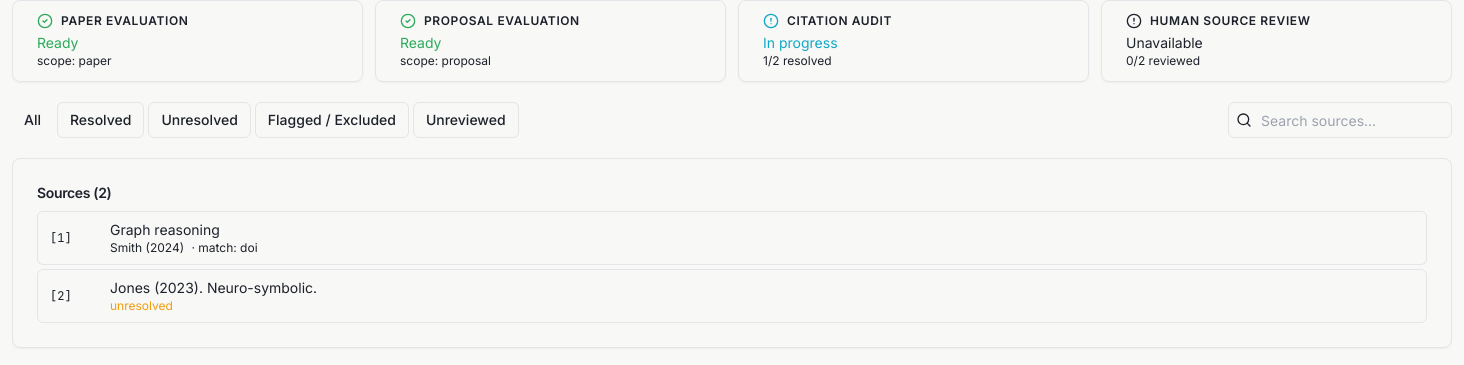
Test: TrustSourcesWorkspace › case 3: source filters work (unresolved shows 1)
Expected: the text "Graph reasoning" is shown, [110,221,220,238]
Click the button "Unresolved". click: x=200, y=120
box: [148,102,251,138]
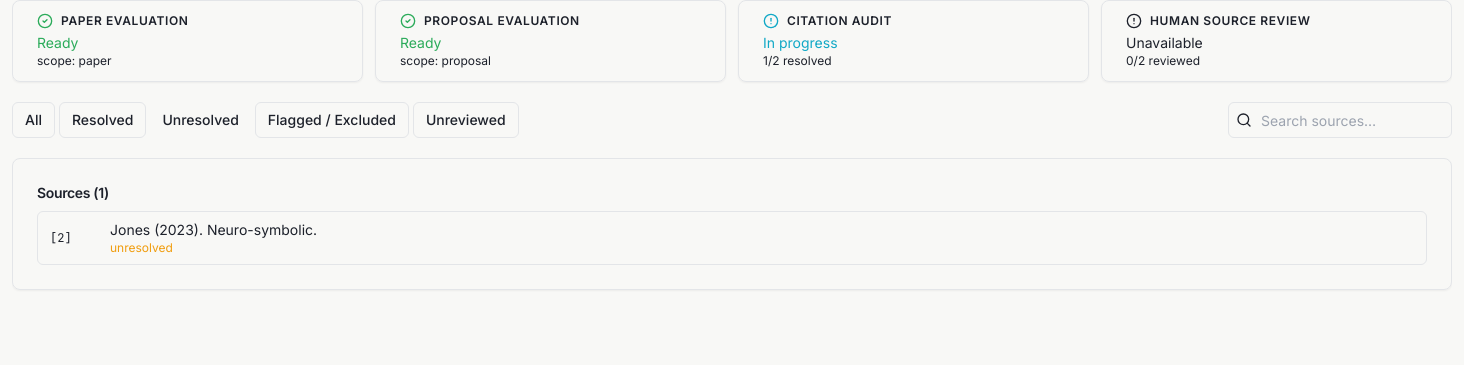
Expected: the text "Jones (2023). Neuro-symbolic." is shown, [110,221,317,238]
Result: the button "Graph reasoning" is gone
